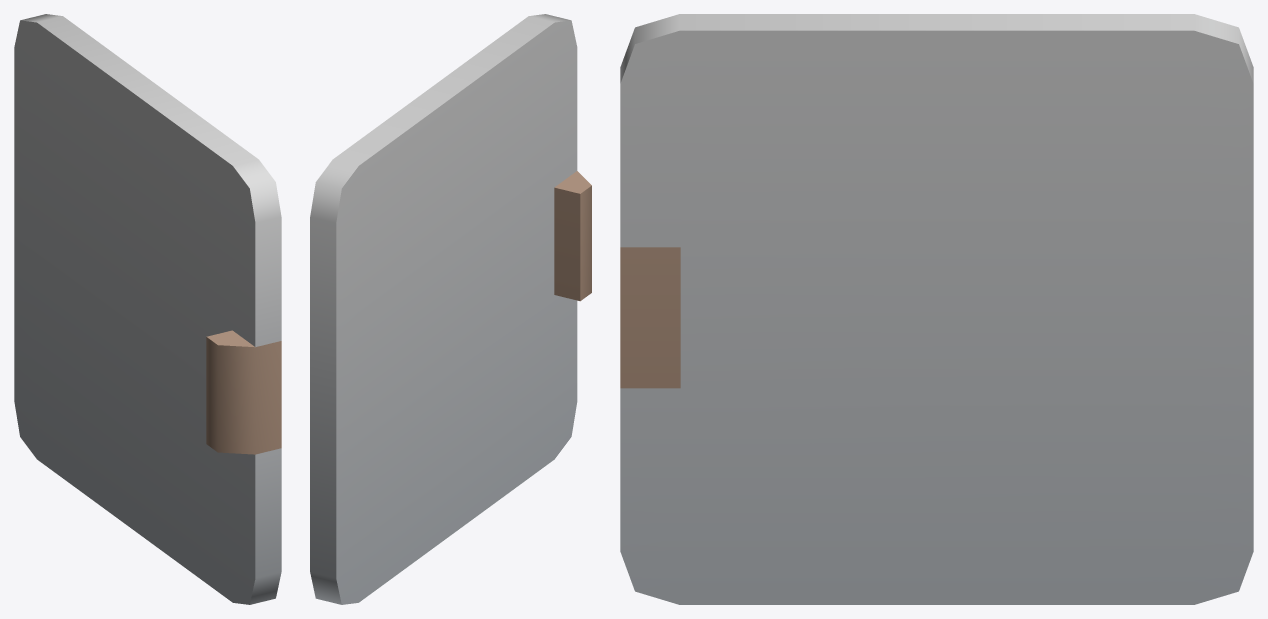
File: (%no-merge) (%open-left) 10.glb
The picture shows the model from 3 angles, left to right: view 1: azimuth 30°, elevation 25°; view 2: azimuth 150°, elevation 25°; view 3: azimuth 270°, elevation 25°; orthographic projection. The views are drawn at different scales.
Visible parts, largest first — view 1: (%no-merge) (%open-left) 10(Clone); view 2: (%no-merge) (%open-left) 10(Clone); view 3: (%no-merge) (%open-left) 10(Clone).
Boxes of the visible parts, left/top/right/bottom form: (%no-merge) (%open-left) 10(Clone): left=14, top=14, right=281, bottom=604; (%no-merge) (%open-left) 10(Clone): left=310, top=14, right=591, bottom=604; (%no-merge) (%open-left) 10(Clone): left=620, top=14, right=1253, bottom=604.
Bounding box in the file's own units: 0.05 × 0.4 × 0.4.
